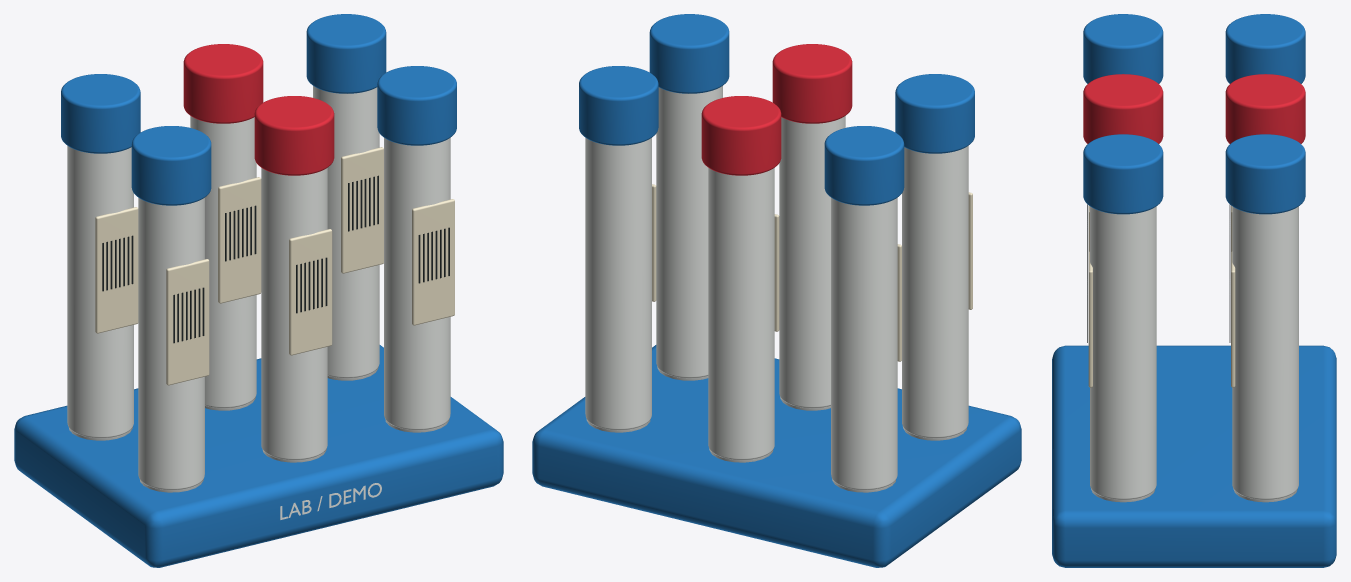
The model's file is 08_Sample_Tubes.glb.
3 views of the same model, side by side, from view 1: azimuth 30°, elevation 25°; view 2: azimuth 150°, elevation 25°; view 3: azimuth 270°, elevation 25° (orthographic).
Parts seen in each view (by area): view 1: SM_Transport rack base, SM_Tube body, SM_Tube body.001, SM_Tube body.002, SM_Tube body.004, SM_Tube body.005, SM_Tube body.003, SM_Tube screw cap, SM_Tube screw cap.002, SM_Tube screw cap.004, SM_Tube screw cap.003, SM_Tube screw cap.005 (+8 smaller); view 2: SM_Transport rack base, SM_Tube body.003, SM_Tube body.001, SM_Tube body.005, SM_Tube body, SM_Tube body.004, SM_Tube body.002, SM_Tube screw cap.001, SM_Tube screw cap.003, SM_Tube screw cap.005, SM_Tube screw cap.002, SM_Tube screw cap.004 (+2 smaller); view 3: SM_Transport rack base, SM_Tube body.005, SM_Tube body.004, SM_Tube screw cap.004, SM_Tube screw cap.005, SM_Tube screw cap.003, SM_Tube screw cap, SM_Tube screw cap.001, SM_Tube screw cap.002, SM_Specimen label.004, SM_Specimen label.005.
Part boxes in pixels (bbox=[...]): SM_Transport rack base: bbox=[14, 345, 503, 567]; SM_Tube body: bbox=[138, 197, 204, 489]; SM_Tube body.001: bbox=[67, 146, 133, 438]; SM_Tube body.002: bbox=[261, 168, 327, 459]; SM_Tube body.004: bbox=[384, 138, 450, 430]; SM_Tube body.005: bbox=[313, 86, 379, 378]; SM_Tube body.003: bbox=[190, 116, 256, 408]; SM_Tube screw cap: bbox=[131, 126, 211, 205]; SM_Tube screw cap.002: bbox=[254, 96, 334, 175]; SM_Tube screw cap.004: bbox=[377, 66, 456, 145]; SM_Tube screw cap.003: bbox=[183, 44, 263, 123]; SM_Tube screw cap.005: bbox=[306, 14, 386, 93]; SM_Transport rack base: bbox=[532, 345, 1021, 567]; SM_Tube body.003: bbox=[708, 168, 774, 459]; SM_Tube body.001: bbox=[831, 197, 897, 489]; SM_Tube body.005: bbox=[585, 138, 651, 430]; SM_Tube body: bbox=[902, 146, 968, 438]; SM_Tube body.004: bbox=[656, 86, 722, 378]; SM_Tube body.002: bbox=[779, 116, 845, 408]; SM_Tube screw cap.001: bbox=[824, 126, 904, 205]; SM_Tube screw cap.003: bbox=[701, 96, 781, 175]; SM_Tube screw cap.005: bbox=[579, 66, 658, 145]; SM_Tube screw cap.002: bbox=[772, 44, 852, 123]; SM_Tube screw cap.004: bbox=[649, 14, 729, 93]; SM_Transport rack base: bbox=[1052, 345, 1336, 567]; SM_Tube body.005: bbox=[1232, 206, 1298, 499]; SM_Tube body.004: bbox=[1090, 206, 1156, 499]; SM_Tube screw cap.004: bbox=[1083, 134, 1163, 214]; SM_Tube screw cap.005: bbox=[1225, 134, 1305, 214]; SM_Tube screw cap.003: bbox=[1225, 74, 1305, 143]; SM_Tube screw cap: bbox=[1083, 14, 1163, 83]; SM_Tube screw cap.001: bbox=[1225, 14, 1305, 83]; SM_Tube screw cap.002: bbox=[1083, 74, 1163, 143]; SM_Specimen label.004: bbox=[1088, 251, 1092, 387]; SM_Specimen label.005: bbox=[1231, 251, 1235, 387].
Bounding box in the file's own units: 0.093 × 0.098 × 0.0644.
